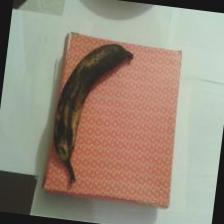Banana Rotten: (42, 20, 140, 188)
